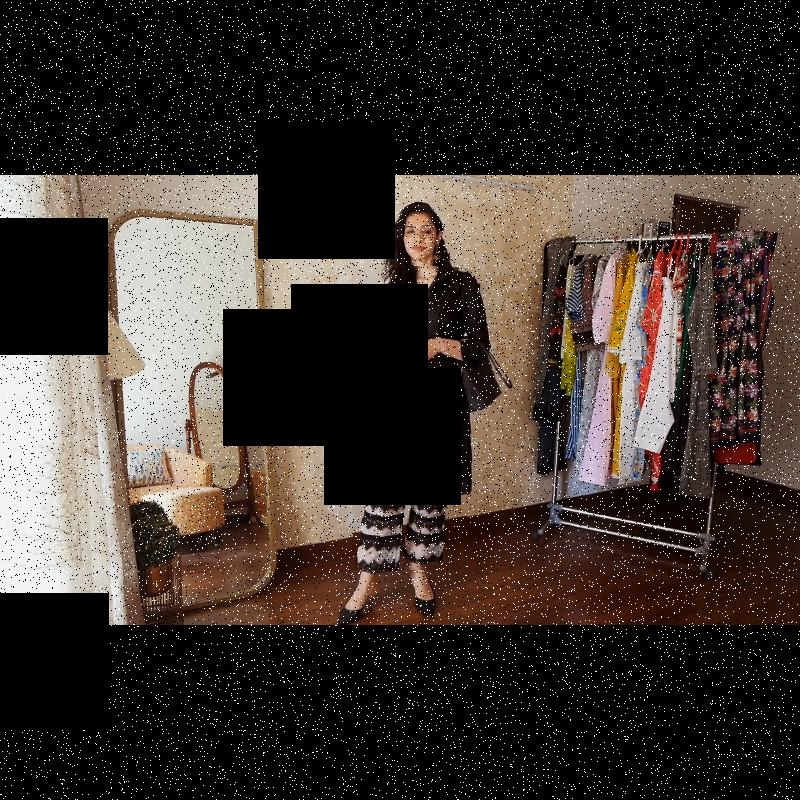Churidaar: (352, 267, 495, 570)
